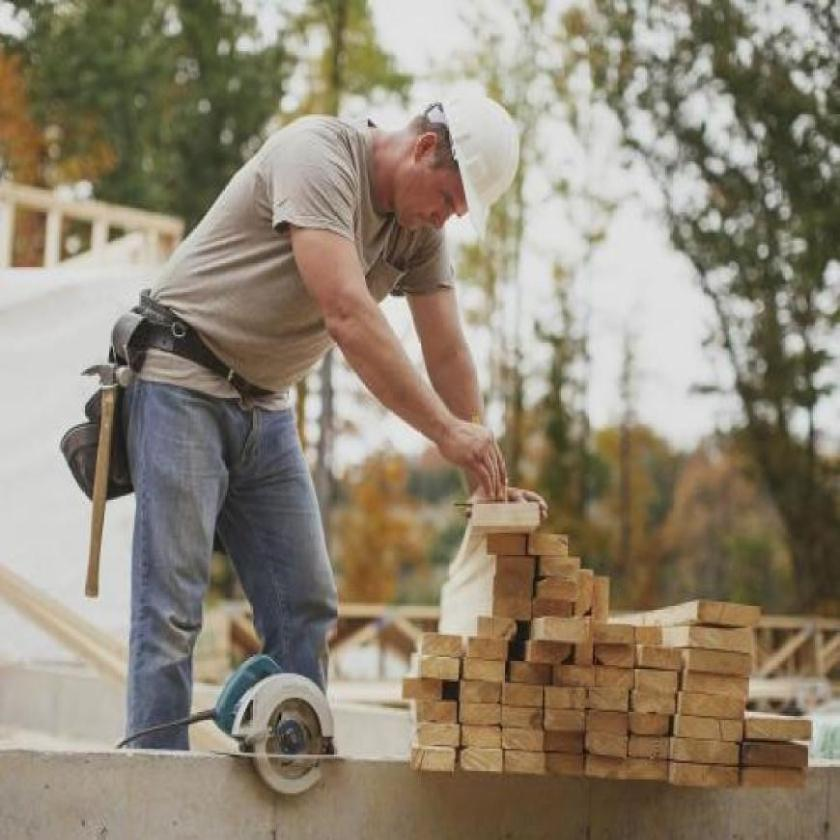Con_casco: (370, 85, 524, 251)
